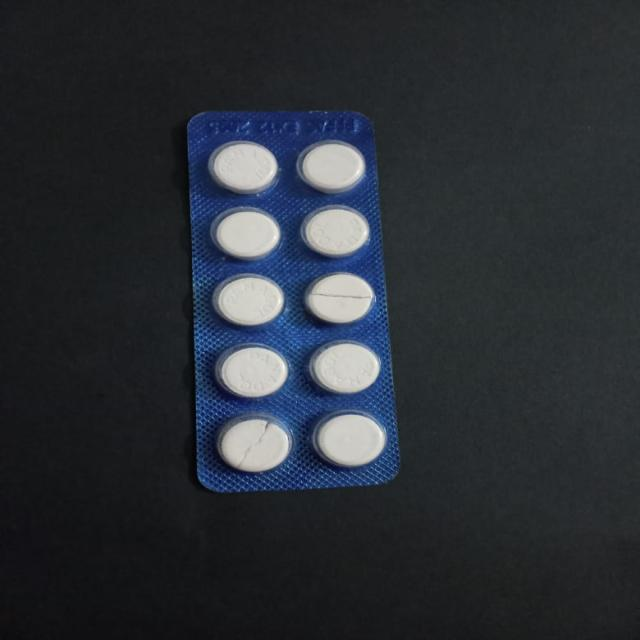defect: (214, 414, 295, 475), (302, 270, 378, 326)
